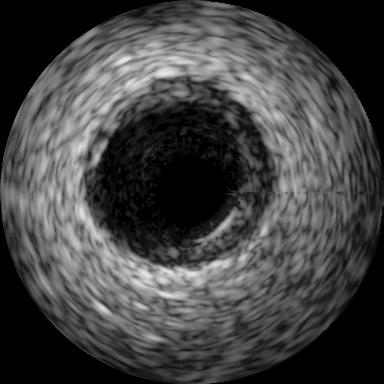Lumen: (149, 147, 240, 238)
